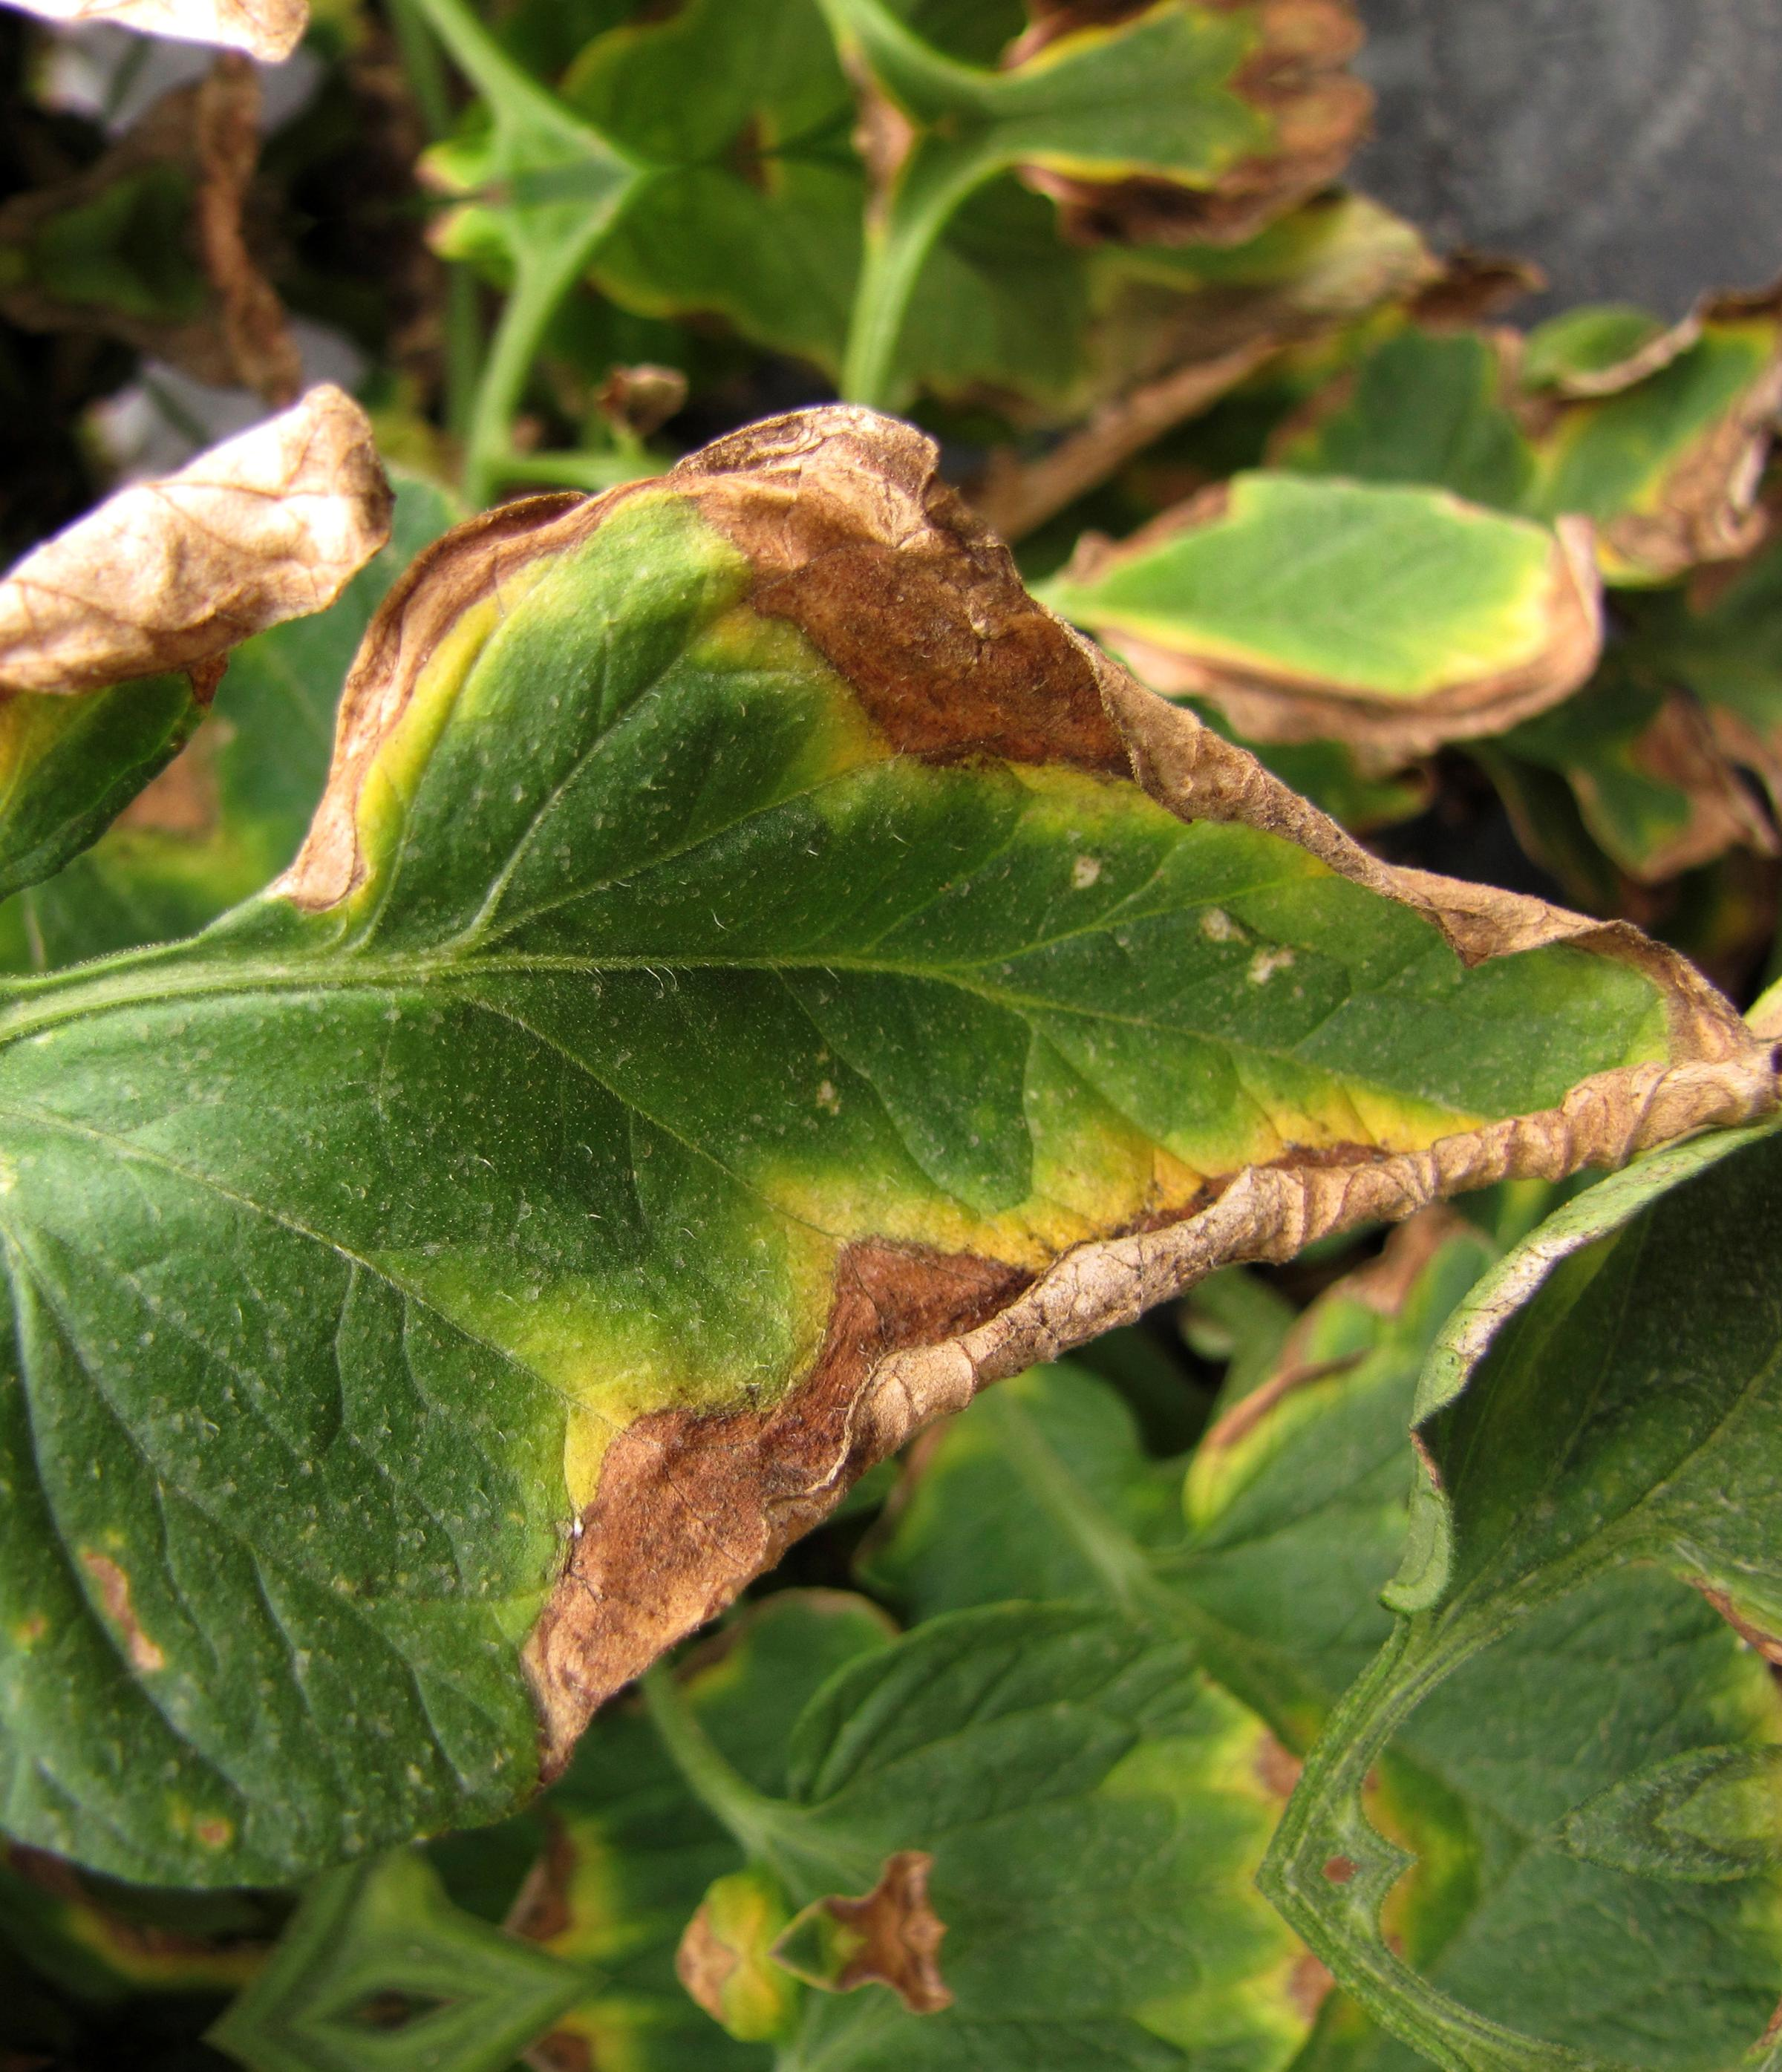Tomato leaf bacterial spot: (0, 146, 1782, 1970)
